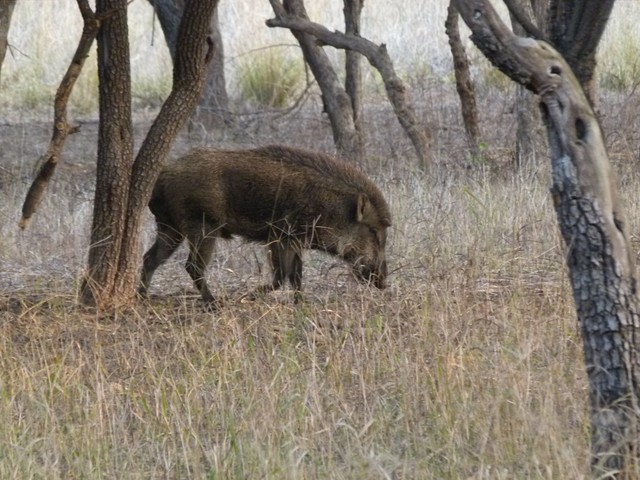Pig: (158, 140, 394, 309)
